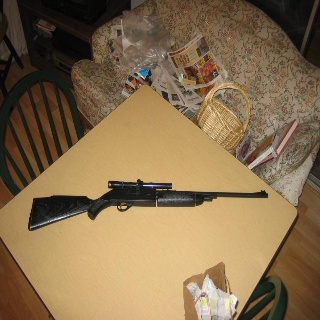rifle: (28, 178, 270, 233)
